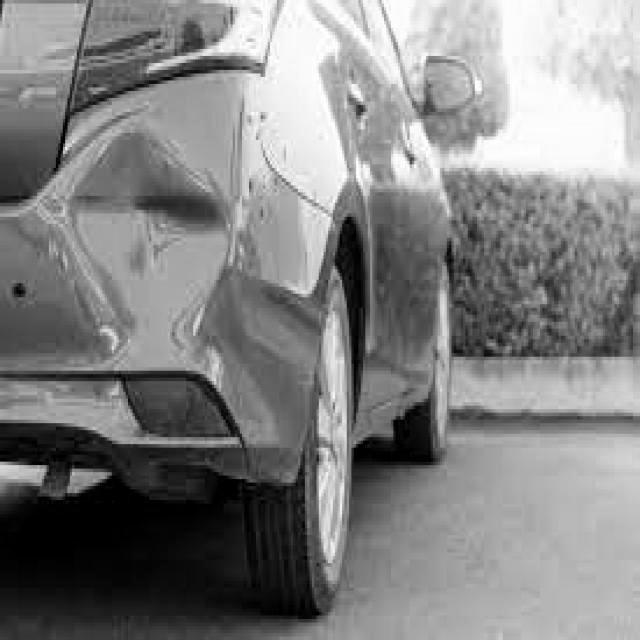rear-bumper-dent: (44, 113, 242, 354)
